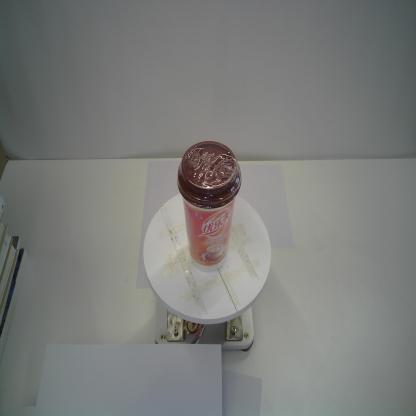Instant Drink: (176, 139, 242, 274)
